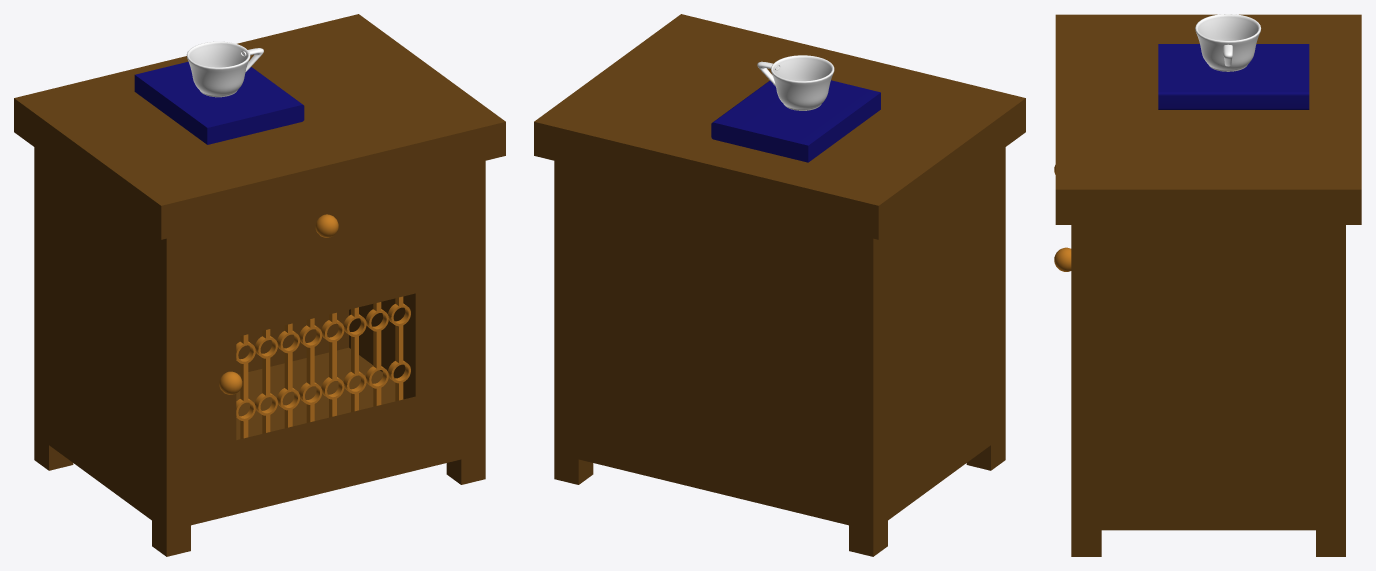
Rendered from Draw Right.fbx.
The picture shows the model from 3 angles, left to right: view 1: azimuth 30°, elevation 25°; view 2: azimuth 150°, elevation 25°; view 3: azimuth 270°, elevation 25°; orthographic projection. The views are drawn at different scales.
Parts seen in each view (by area): view 1: Drawer, Blue Book, Cup, Circle057, Circle062, Circle059, Circle063, Circle058, Circle061, Circle060, Circle056; view 2: Drawer, Blue Book, Cup; view 3: Drawer, Blue Book, Cup.
Part boxes in pixels (left/top/right/bottom): Drawer: left=14, top=14, right=505, bottom=556; Blue Book: left=134, top=61, right=304, bottom=144; Cup: left=186, top=41, right=263, bottom=97; Circle057: left=255, top=329, right=277, bottom=433; Circle062: left=366, top=302, right=388, bottom=406; Circle059: left=299, top=318, right=322, bottom=422; Circle063: left=388, top=296, right=410, bottom=401; Circle058: left=277, top=323, right=299, bottom=428; Circle061: left=343, top=307, right=366, bottom=411; Circle060: left=321, top=312, right=344, bottom=417; Circle056: left=236, top=334, right=255, bottom=439; Drawer: left=534, top=14, right=1025, bottom=556; Blue Book: left=711, top=80, right=880, bottom=162; Cup: left=757, top=55, right=834, bottom=110; Drawer: left=1055, top=14, right=1361, bottom=556; Blue Book: left=1158, top=44, right=1309, bottom=109; Cup: left=1195, top=14, right=1261, bottom=71.
Size of the model in its own units: 73.87 by 85.16 by 54.87.
